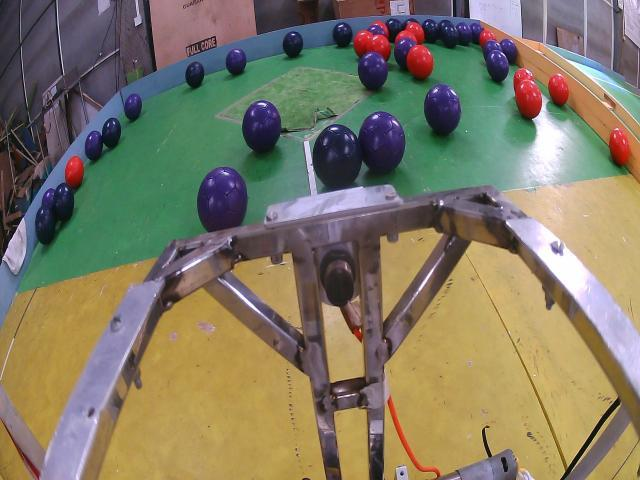jambhalya: (198, 168, 248, 232), (359, 112, 405, 173), (242, 100, 281, 152), (424, 83, 461, 135), (358, 52, 388, 90), (486, 50, 509, 82), (394, 37, 416, 70), (282, 32, 304, 58), (85, 130, 104, 160), (225, 48, 246, 75), (124, 93, 142, 120), (500, 38, 518, 65), (456, 22, 472, 47), (470, 23, 484, 45), (41, 188, 55, 207), (368, 25, 385, 35)
kaalyya: (312, 123, 362, 188), (52, 183, 75, 222), (35, 205, 56, 245), (101, 118, 121, 148), (282, 32, 304, 58), (185, 62, 205, 88), (332, 22, 352, 47), (440, 25, 459, 48), (422, 18, 439, 43), (386, 18, 404, 41), (438, 18, 452, 38), (402, 17, 419, 28)
